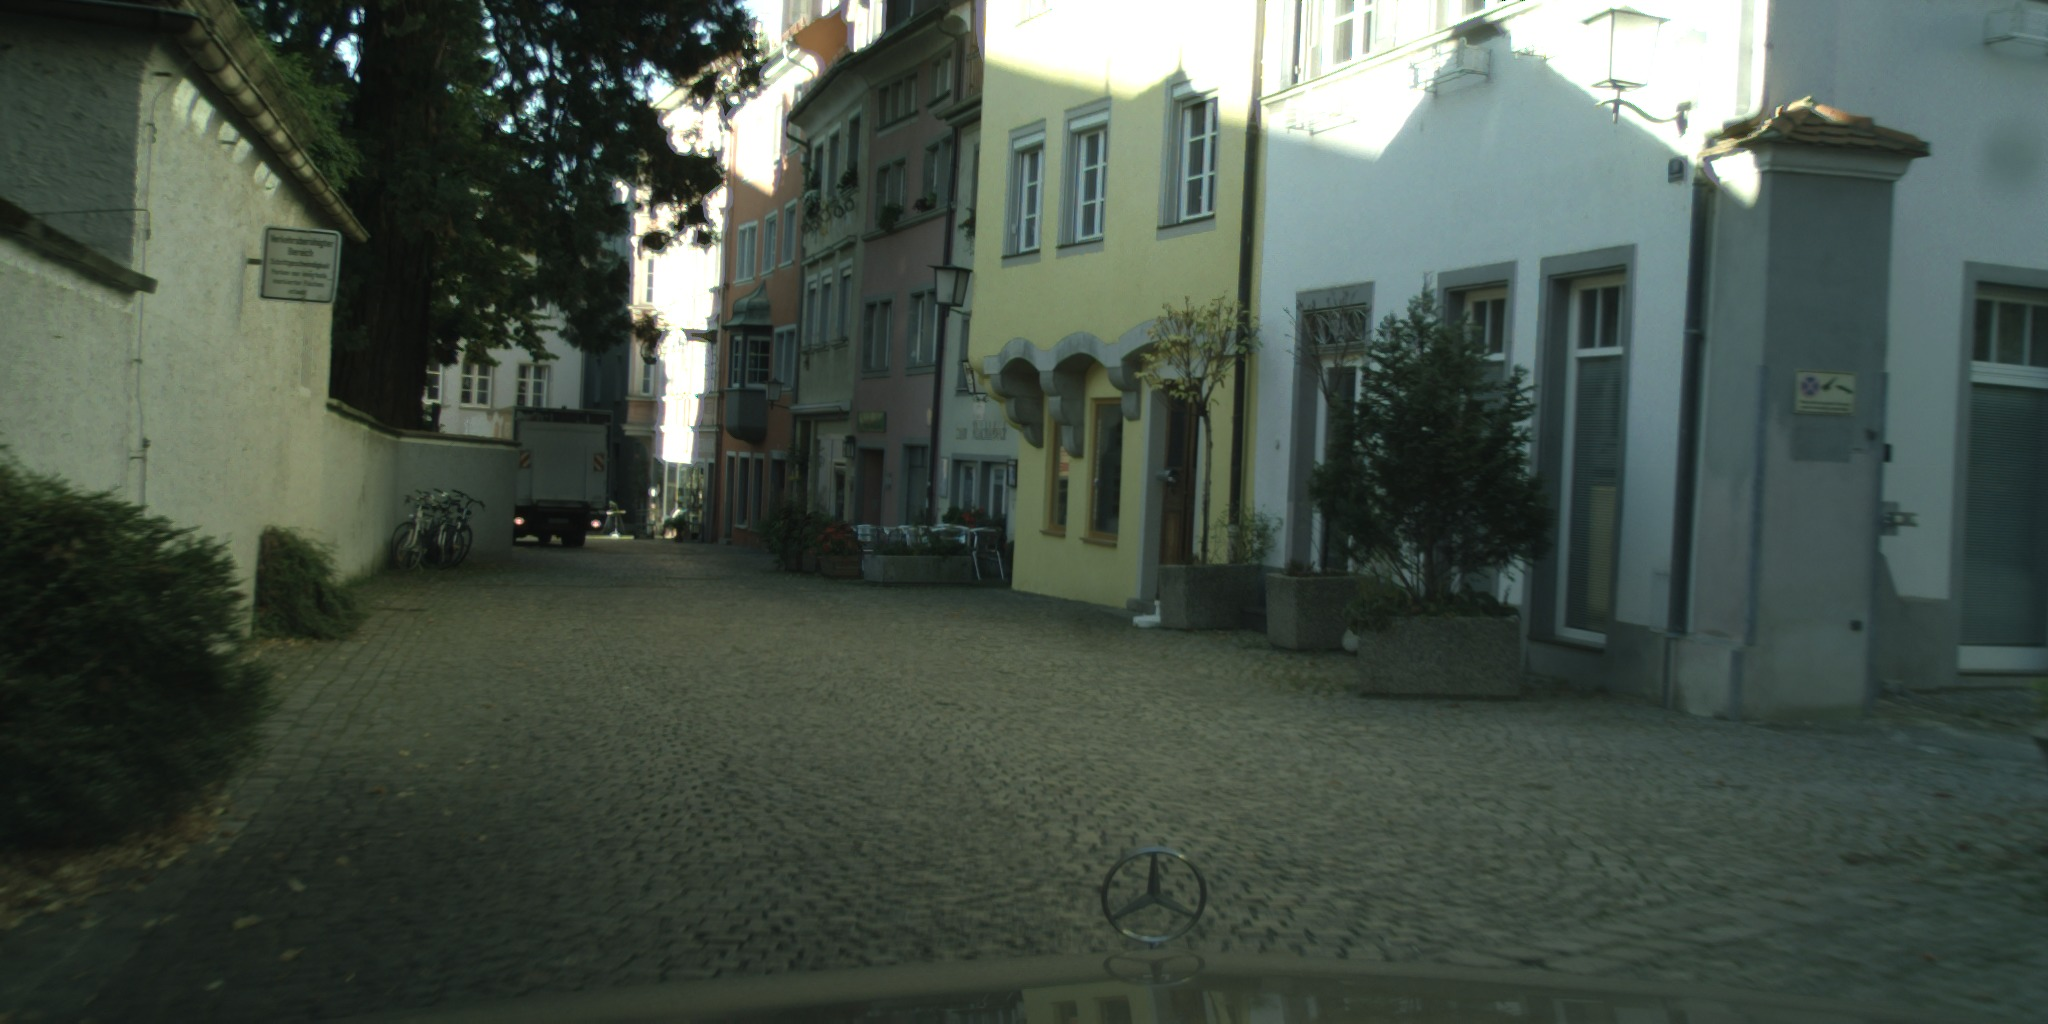truck: (462, 405, 613, 549)
